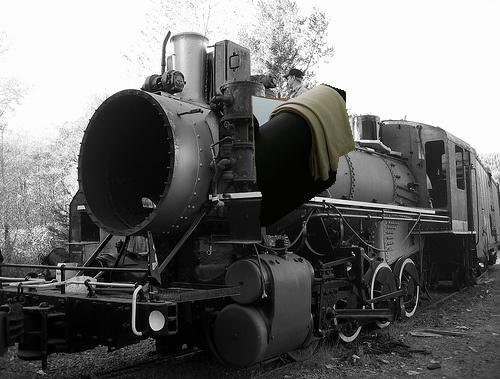tampered: (252, 84, 355, 227)
